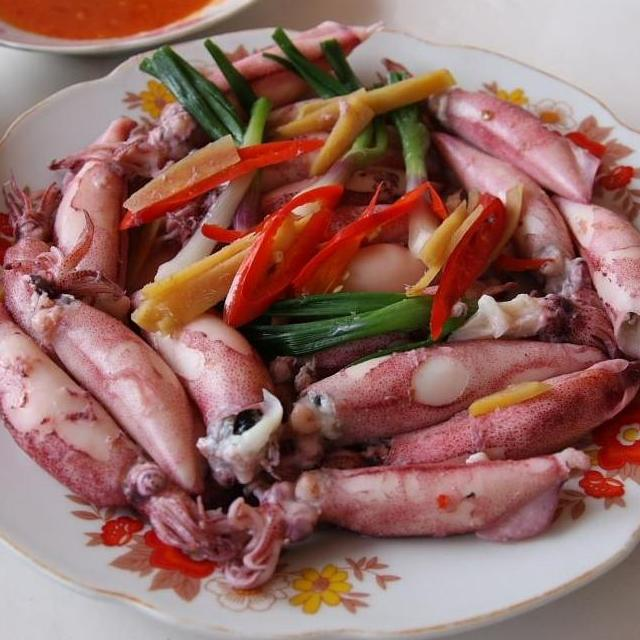muc: (381, 71, 640, 350), (43, 44, 446, 202), (26, 148, 388, 306), (425, 138, 640, 376), (13, 276, 214, 516), (252, 460, 534, 626), (0, 157, 329, 292), (346, 146, 516, 358), (490, 300, 596, 530), (34, 434, 214, 554), (515, 333, 640, 474), (0, 280, 98, 452), (115, 333, 334, 402)
